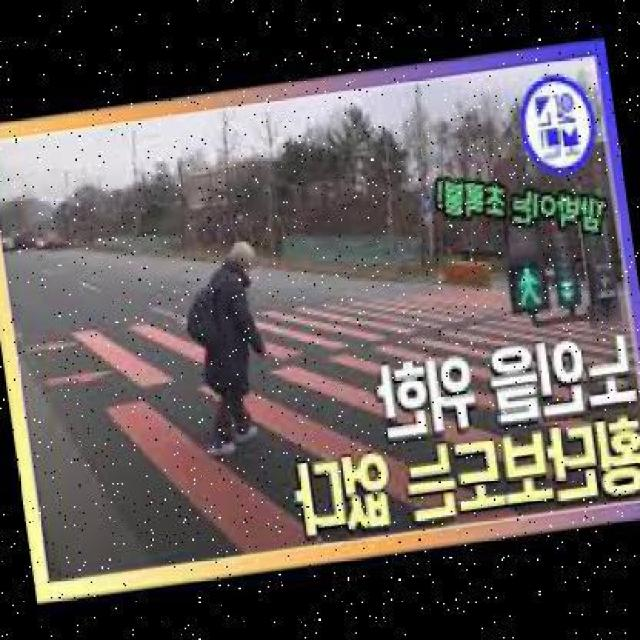-: (179, 234, 283, 455)
